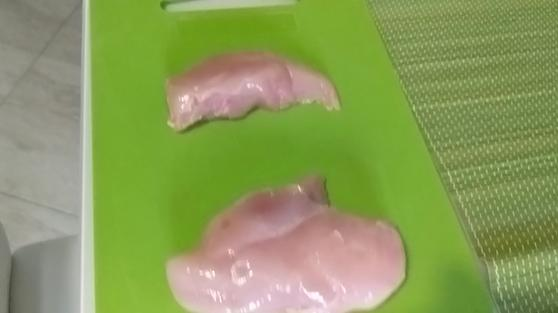chicken_fillet: (164, 175, 408, 309), (164, 50, 341, 131)
